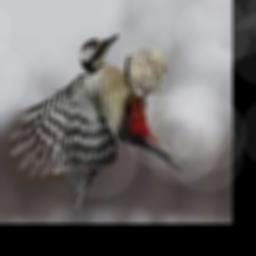Woodpecker: (9, 34, 183, 208)
